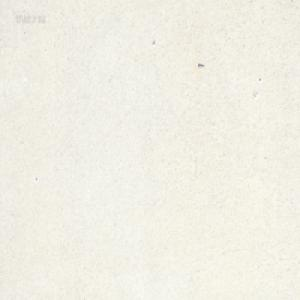Nail: (197, 62, 204, 66)
